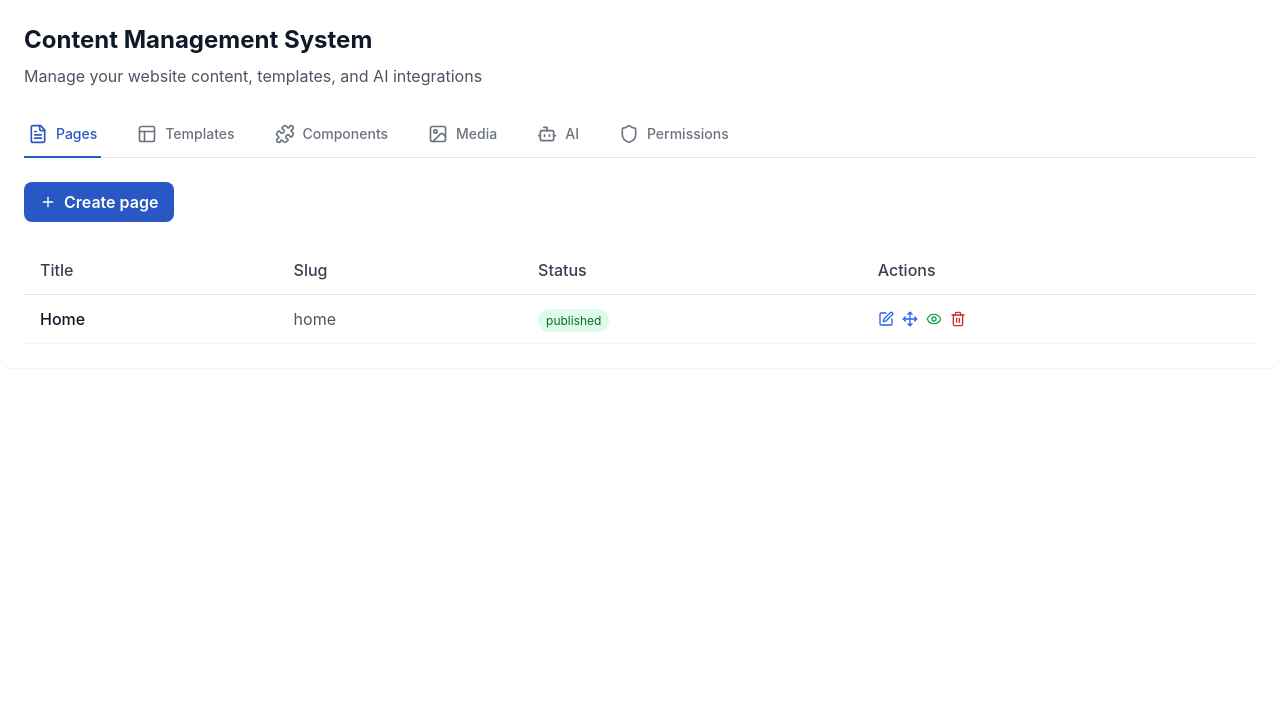
CMSAdminPanel › should switch to AI tab and display AI providers
// Switch to AI tab
Click the button "AI" at (558, 135), box 533,112 -> 583,158
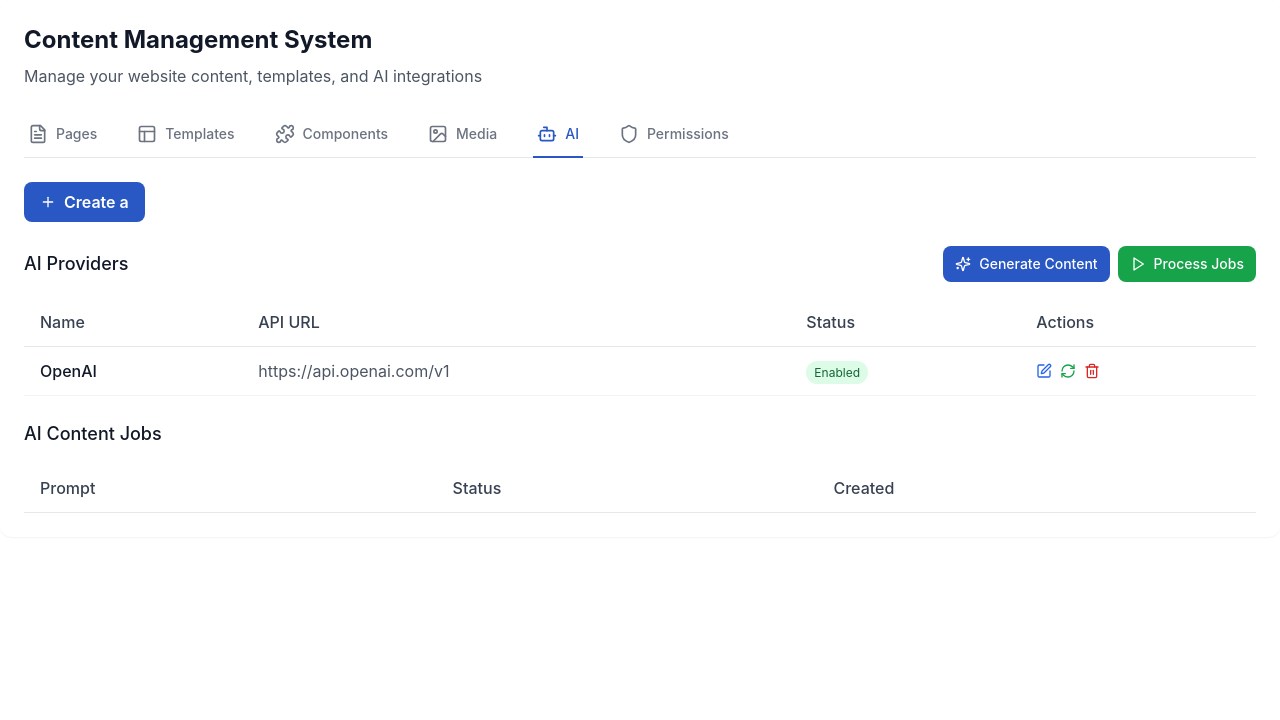
Expected: the text "OpenAI" is shown, 24,346 -> 242,396
Expected: the text "https://api.openai.com/v1" is shown, 242,346 -> 790,396
Expected: the text "Enabled" is shown, 806,361 -> 868,384
